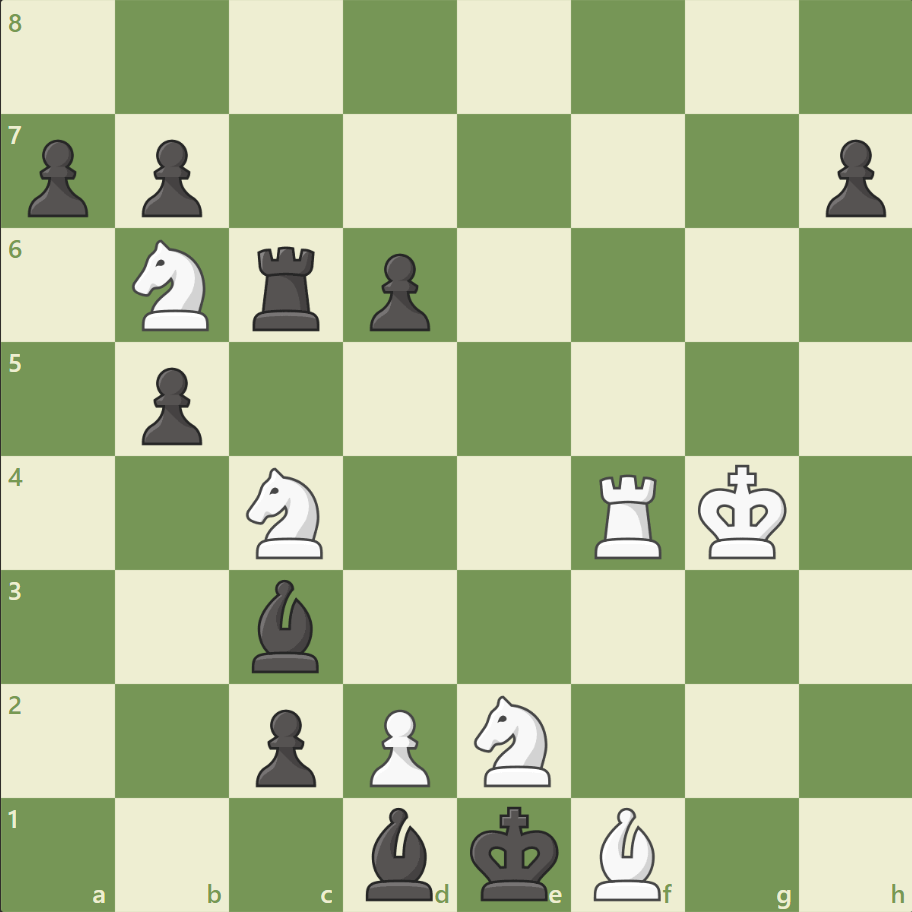B: (585, 801, 669, 904)
K: (692, 458, 792, 566)
N: (124, 234, 222, 337), (238, 461, 335, 564), (465, 688, 562, 791)
P: (361, 700, 435, 791)
R: (587, 466, 670, 563)
b: (358, 801, 442, 904), (244, 574, 328, 676)
k: (465, 798, 565, 906)
p: (20, 132, 95, 223), (133, 132, 208, 223), (133, 359, 208, 450), (247, 700, 322, 791), (815, 132, 889, 223), (361, 246, 435, 337)
r: (246, 239, 329, 336)
